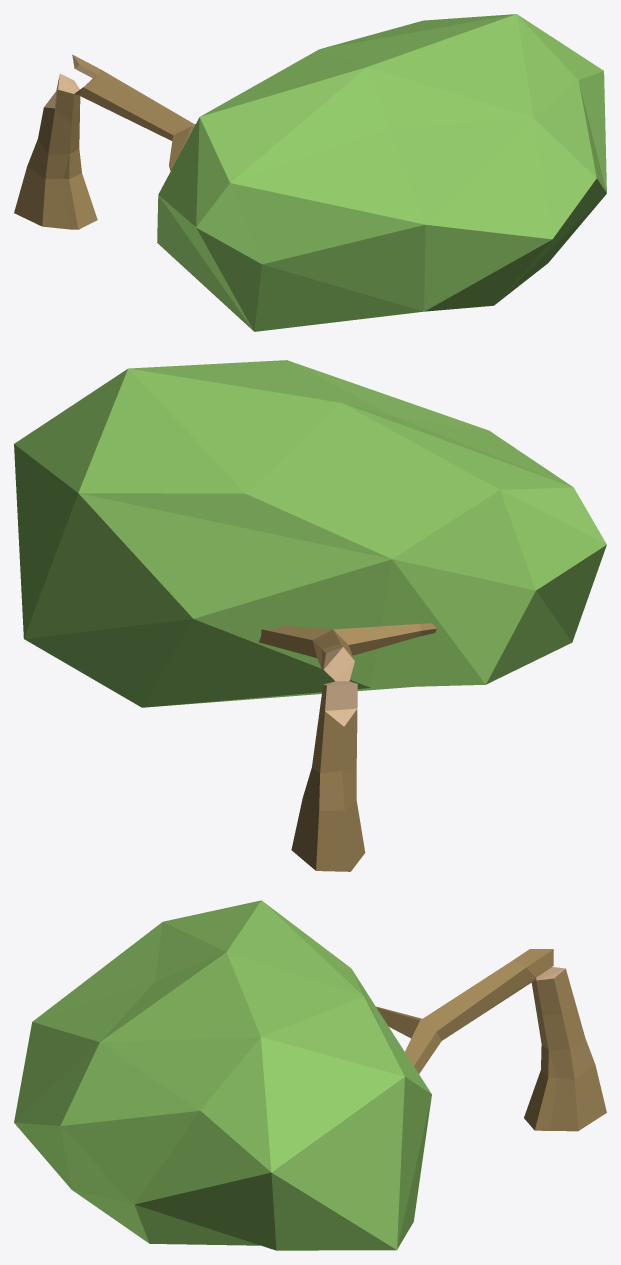
Rendered from Oak_Tree_crk_l_03.fbx.
3 renders of one model, top to bottom at view 1: azimuth 30°, elevation 25°; view 2: azimuth 150°, elevation 25°; view 3: azimuth 270°, elevation 25°, orthographic. The views are drawn at different scales.
Parts seen in each view (by area): view 1: Oak_Tree_crk_l_03; view 2: Oak_Tree_crk_l_03; view 3: Oak_Tree_crk_l_03.
Part boxes in pixels (<box>): Oak_Tree_crk_l_03: <box>14,14,606,331</box>; Oak_Tree_crk_l_03: <box>14,360,606,871</box>; Oak_Tree_crk_l_03: <box>14,900,606,1250</box>.
Size of the model in its own units: 840 by 404 by 892.
